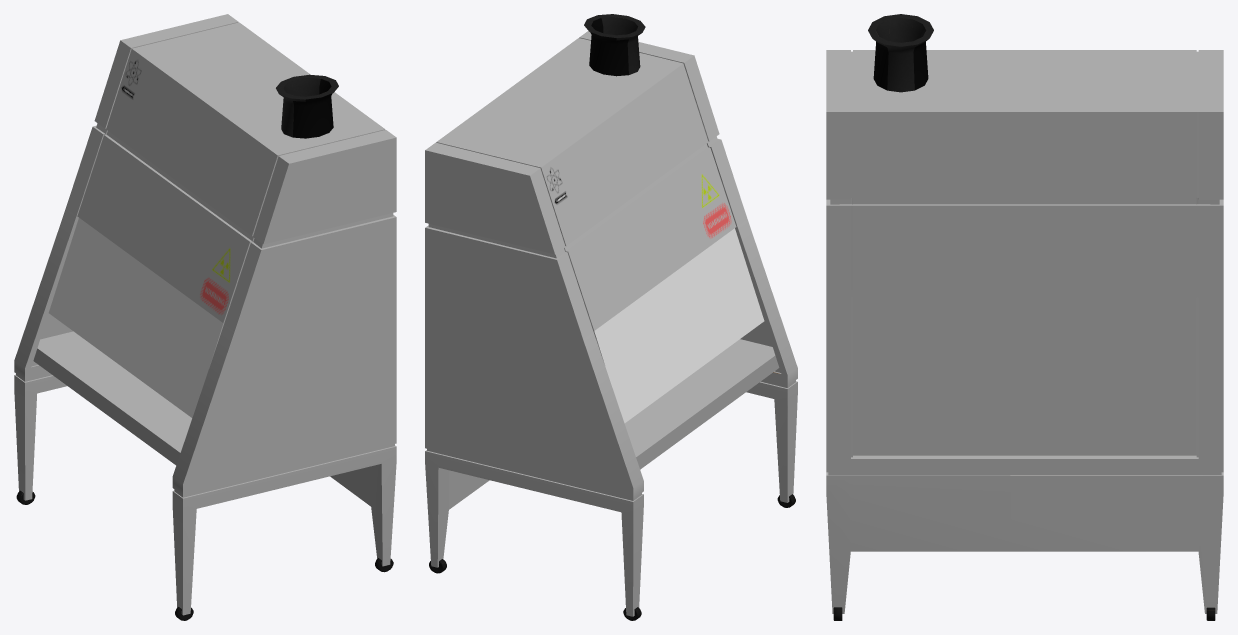
File: laboratory_machine.glb
The picture shows the model from 3 angles, left to right: view 1: azimuth 30°, elevation 25°; view 2: azimuth 150°, elevation 25°; view 3: azimuth 270°, elevation 25°; orthographic projection. The views are drawn at different scales.
Visible parts, largest first — view 1: Lab_Machine; view 2: Lab_Machine; view 3: Lab_Machine.
Boxes of the visible parts, left/top/right/bottom form: Lab_Machine: left=14, top=14, right=396, bottom=620; Lab_Machine: left=425, top=14, right=797, bottom=620; Lab_Machine: left=826, top=14, right=1223, bottom=620.
Size of the model in its own units: 0.9897 by 2.09 by 1.34.
2 materials, 1 textured.
